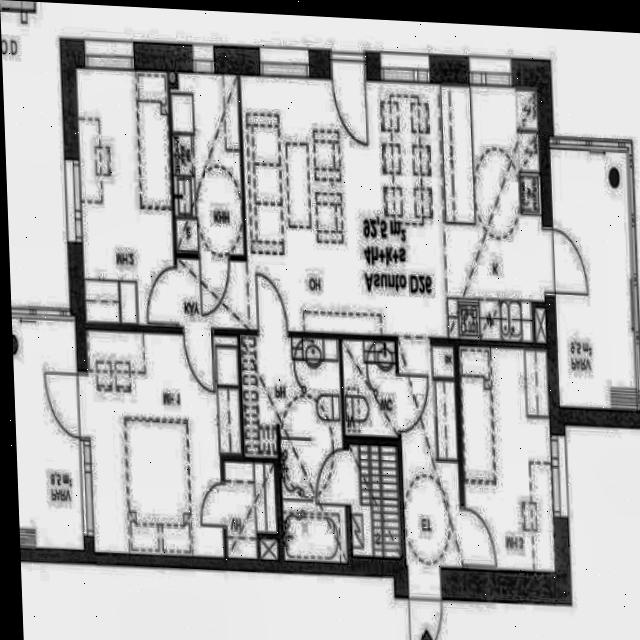room: (86, 324, 246, 564), (76, 65, 177, 331), (240, 331, 348, 567), (550, 146, 637, 414), (459, 343, 556, 576), (11, 316, 84, 553), (169, 70, 244, 259), (348, 443, 401, 560), (341, 337, 398, 440), (224, 459, 278, 560)
